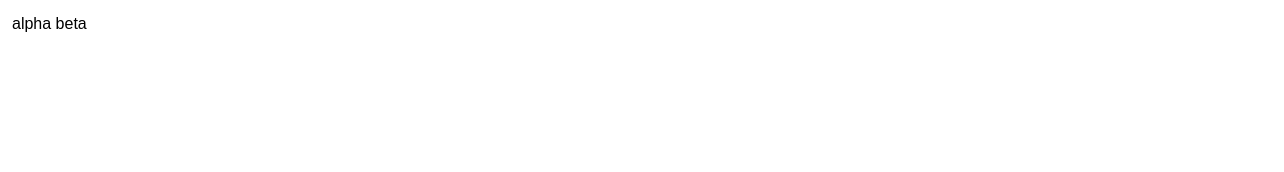
Test case: SearchView — the search bar is not something it finds › finds nothing when only the bar holds the term
This screenshot has width=1284, height=172.
Press f
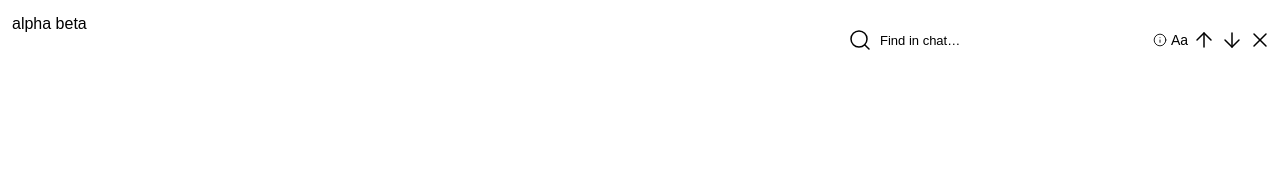
Type "al" into the field with placeholder "Find in chat…" at (1012,40), box [876, 24, 1149, 56]
Wait 400 ms
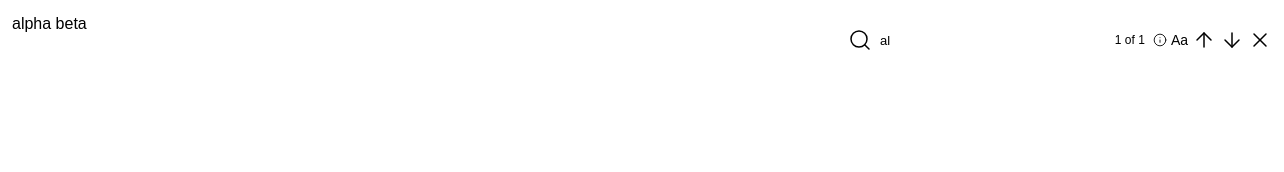
Expected: the text "1 of 1" is shown, [1115, 33, 1145, 47]
Replace the text in the field with placeholder "Find in chat…" with "aa" at (991,40), box [876, 24, 1107, 56]
Wait 400 ms
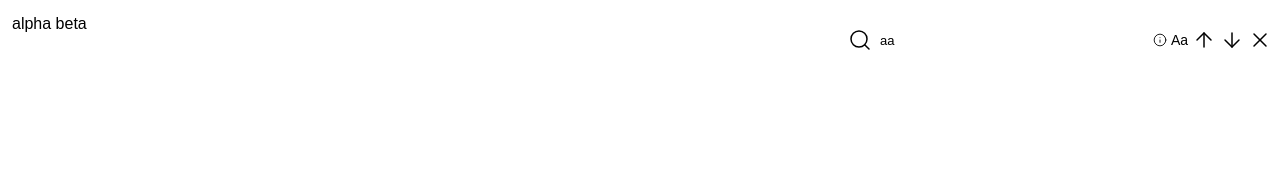
Expected: the text "1 of 1" is gone
